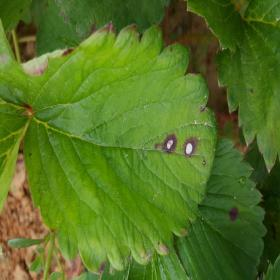Leaf Spot: (24, 20, 218, 277), (174, 138, 268, 279), (214, 0, 279, 176), (0, 47, 79, 107)
